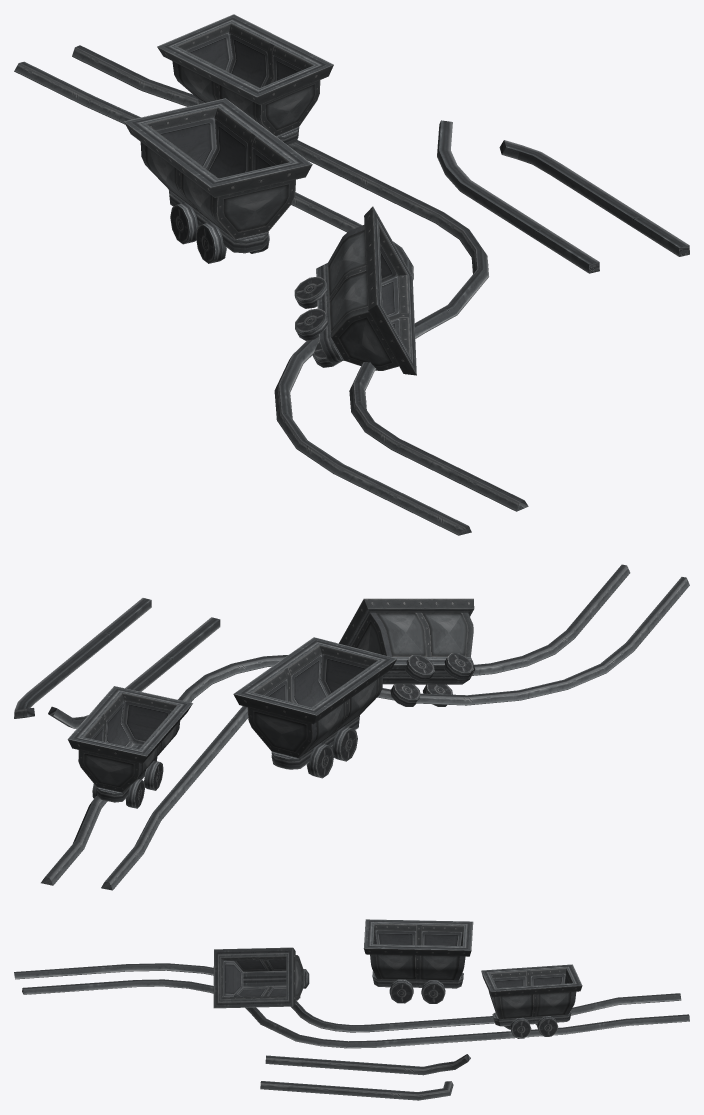
The model's file is M3_RPG_MineWagons_01.FBX.
3 views of the same model, one above another, from view 1: azimuth 30°, elevation 25°; view 2: azimuth 150°, elevation 25°; view 3: azimuth 270°, elevation 25° (orthographic). The views are drawn at different scales.
Parts seen in each view (by area): view 1: M3_RPG_MineWagons_01; view 2: M3_RPG_MineWagons_01; view 3: M3_RPG_MineWagons_01.
Part boxes in pixels (box(x1,y1,x2,y2)): M3_RPG_MineWagons_01: box(14, 14, 689, 535); M3_RPG_MineWagons_01: box(14, 564, 689, 890); M3_RPG_MineWagons_01: box(14, 919, 689, 1100).
Bounding box in the file's own units: 6.62 × 1.66 × 13.79.
